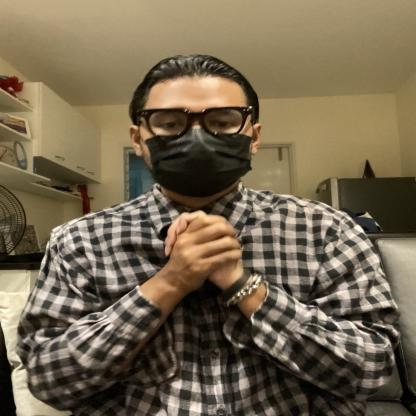Grieve: (53, 192, 344, 318)
